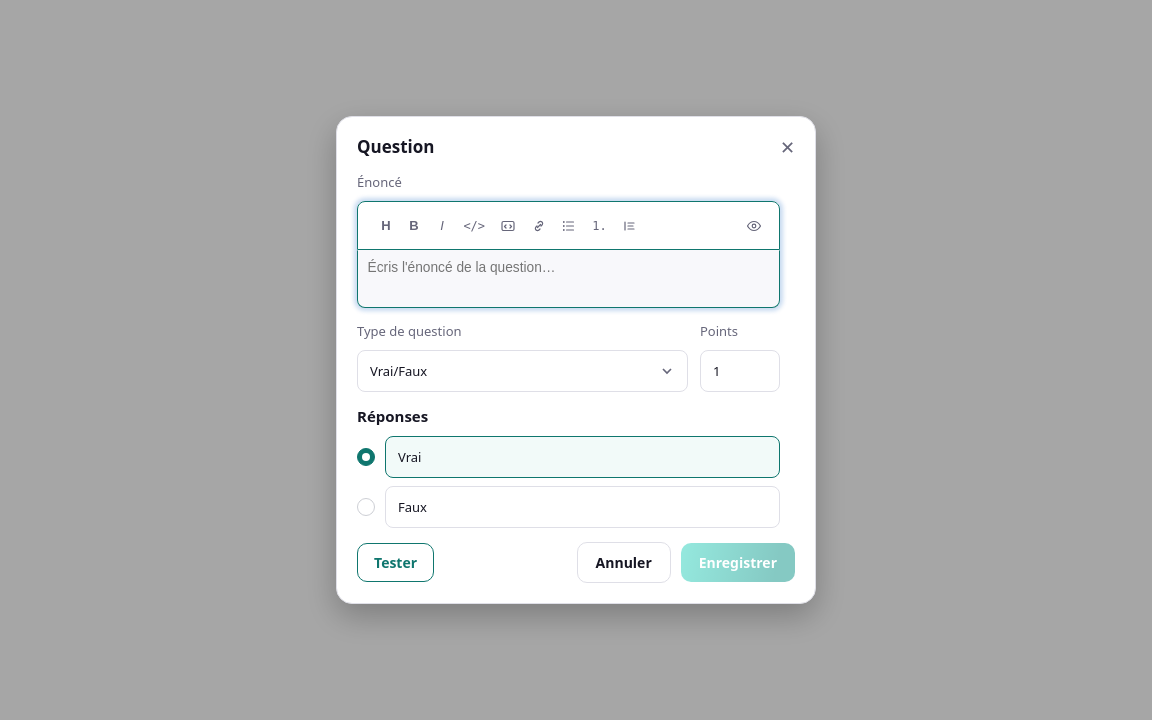
it: QuestionFormBody › barème : arrondi au dixième borné ≥ 0.1 au blur
Replace the text in the number field labelled "Points" with "2.37" at [740, 370], box [700,350,780,392]
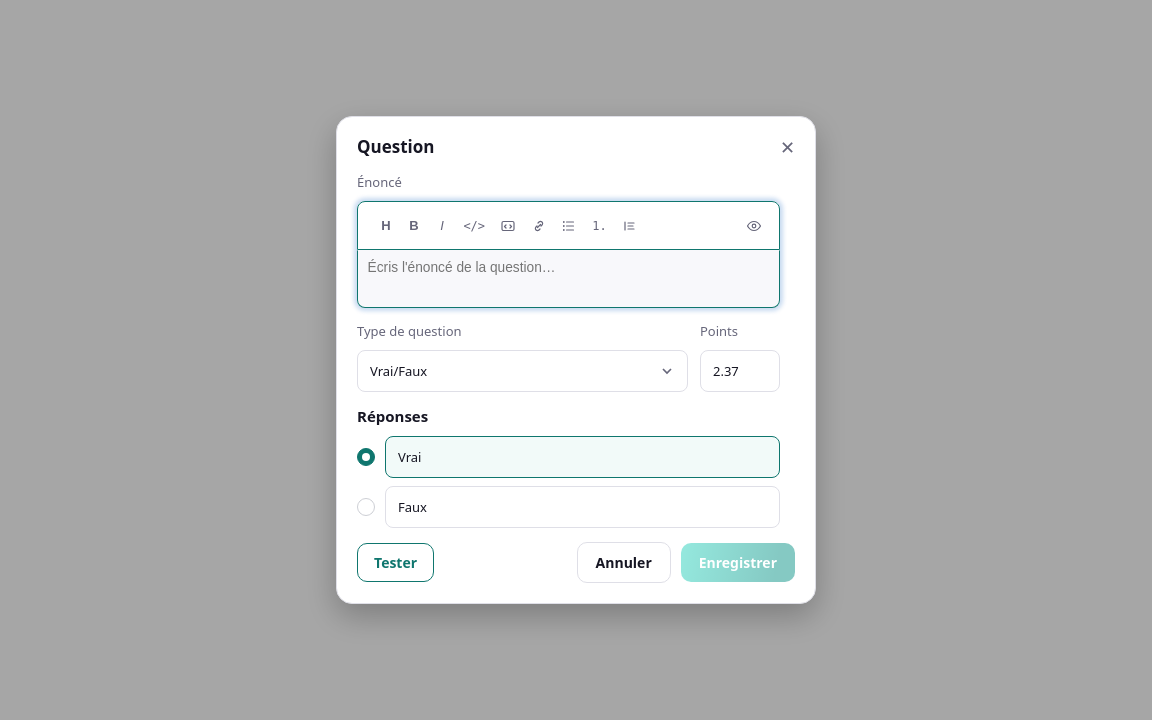
Leave the number field labelled "Points", box [700,350,780,392]
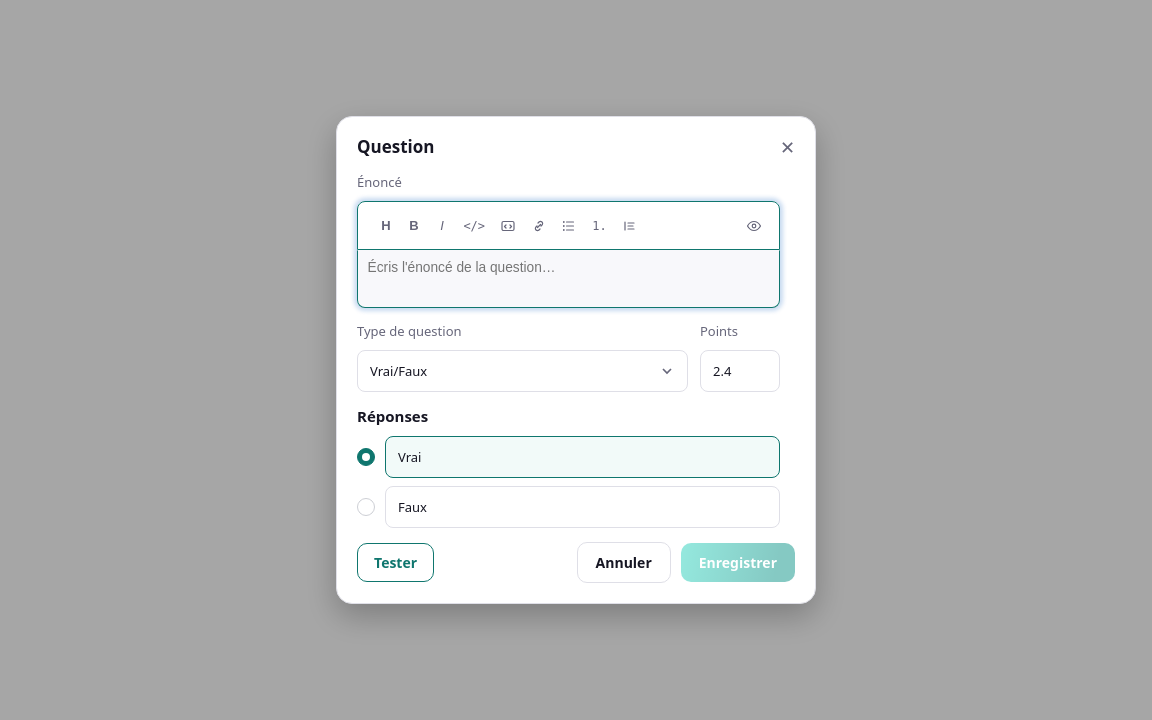
Result: the number field labelled "Points" holds "2.4" at [700,350,780,392]
